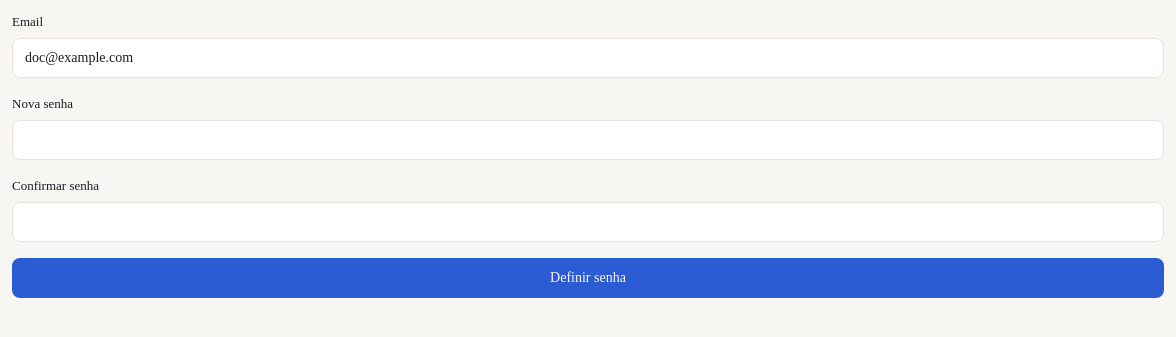
Test: SetPasswordForm (integration) › with token › shows zod error when passwords do not match
This screenshot has width=1176, height=337.
Type "password123" into the password field with test id "set-password-password". click: coordinates (588, 140)
box: [12, 120, 1164, 160]
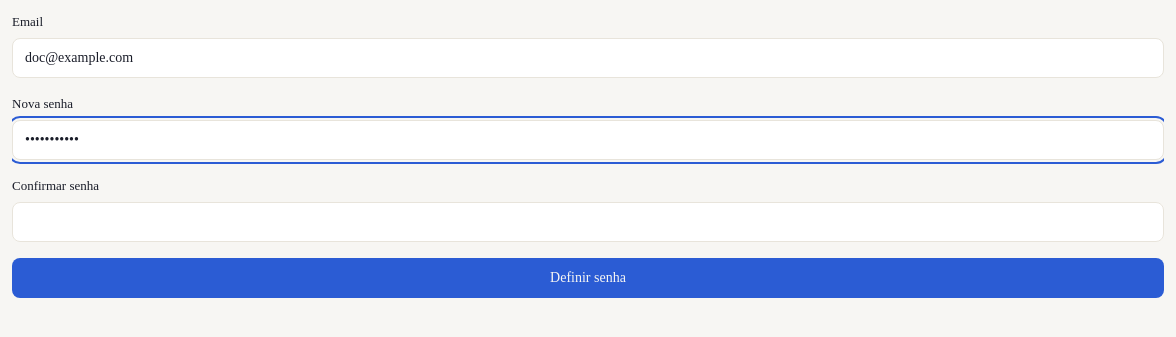
Type "different123" into the password field with test id "set-password-confirm-password". click: coordinates (588, 222)
box: [12, 202, 1164, 242]
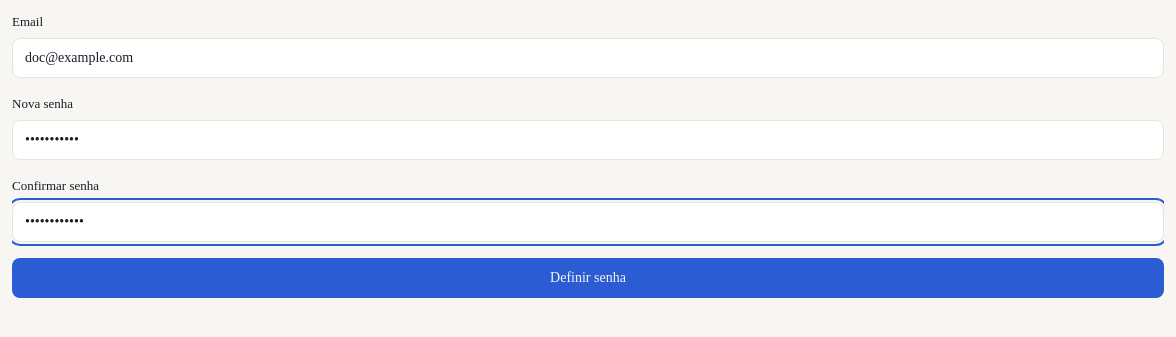
Click the button with test id "set-password-submit". click: coordinates (588, 278)
box: [12, 258, 1164, 298]
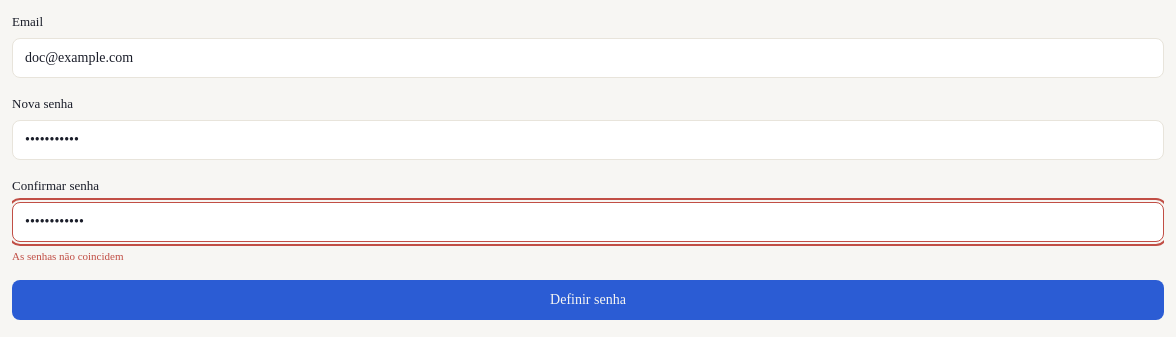
expect the text "As senhas não coincidem" is shown: met, box [12, 250, 124, 262]
